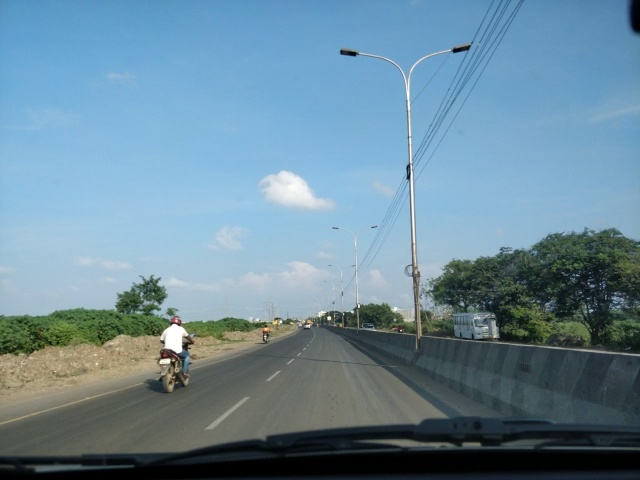bus: (450, 311, 506, 338)
car: (358, 319, 376, 340), (301, 319, 314, 333), (361, 318, 376, 330)
motorbike: (157, 312, 199, 397), (257, 319, 276, 346)
